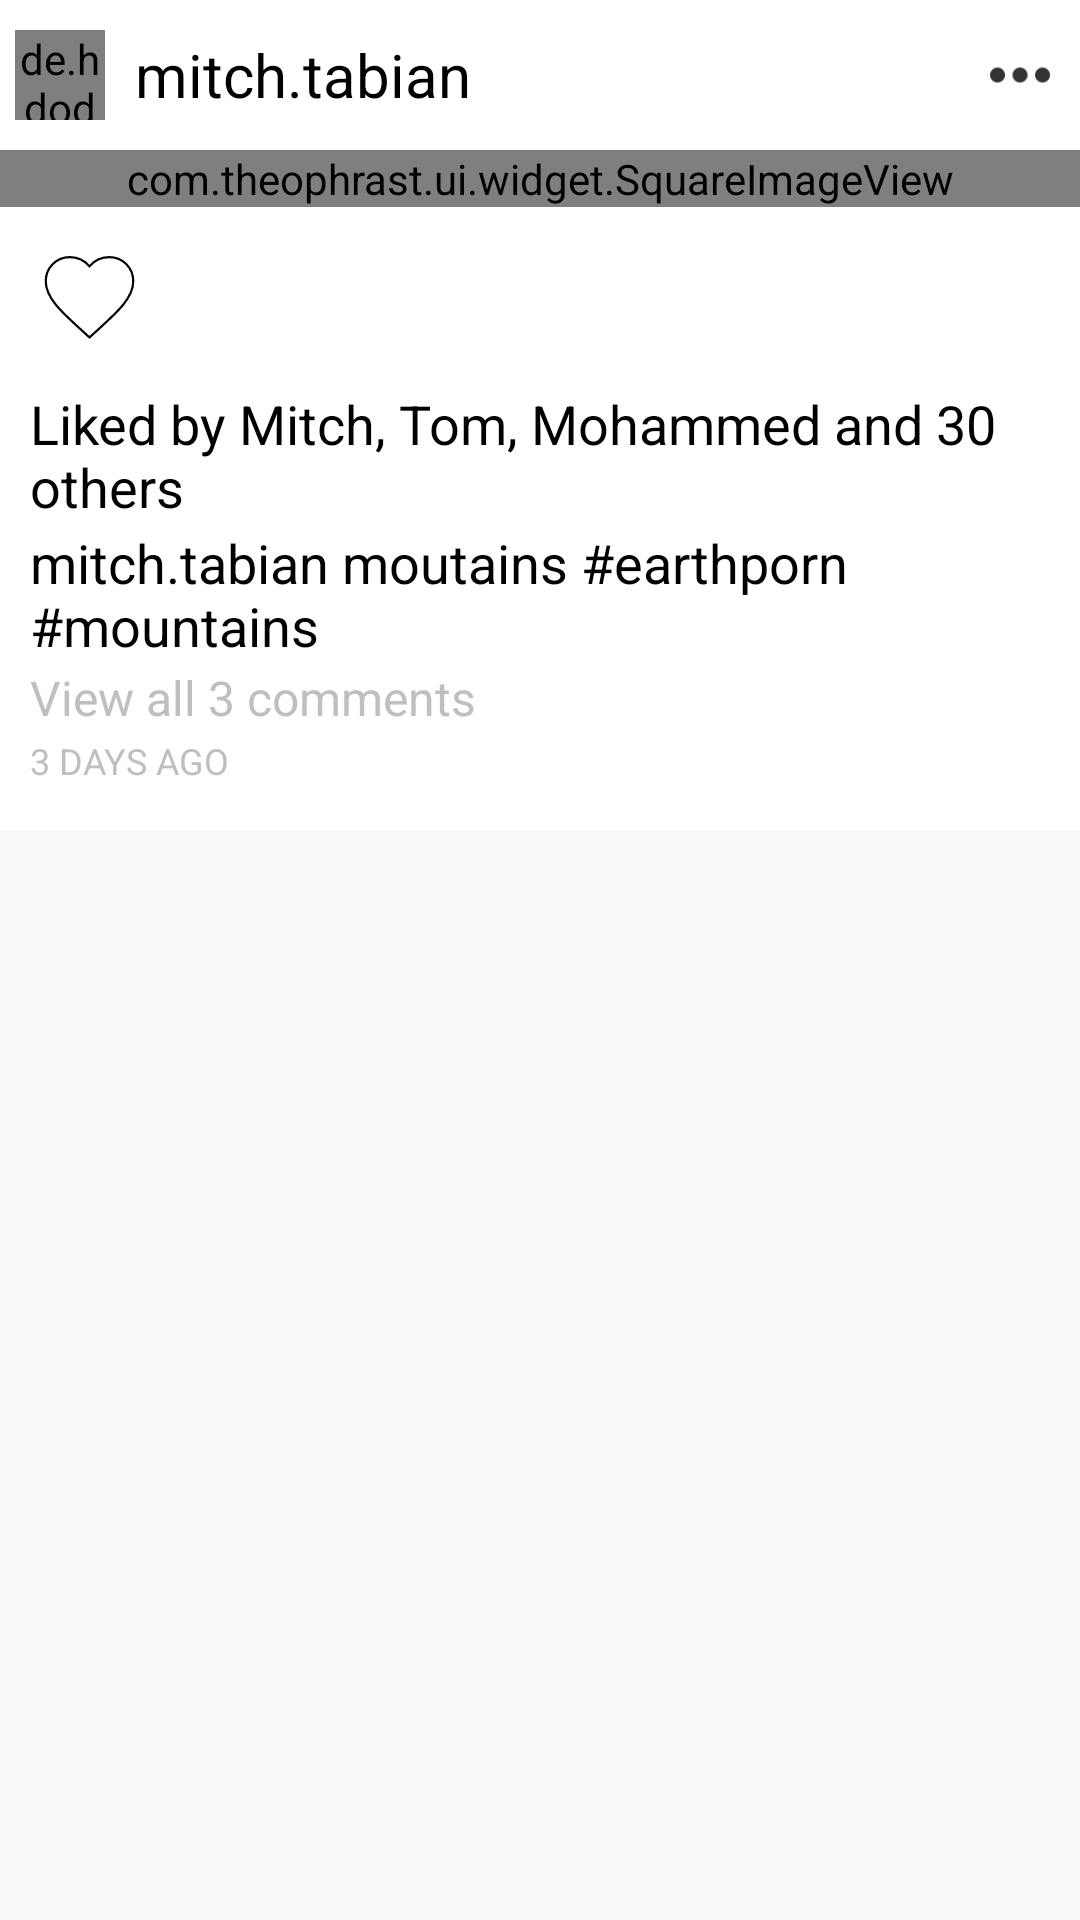

Icons on this 1080*1920 Android screen, each with the point to tap as (x,y):
ellipses: (1020,75)
heart: (89,297)
